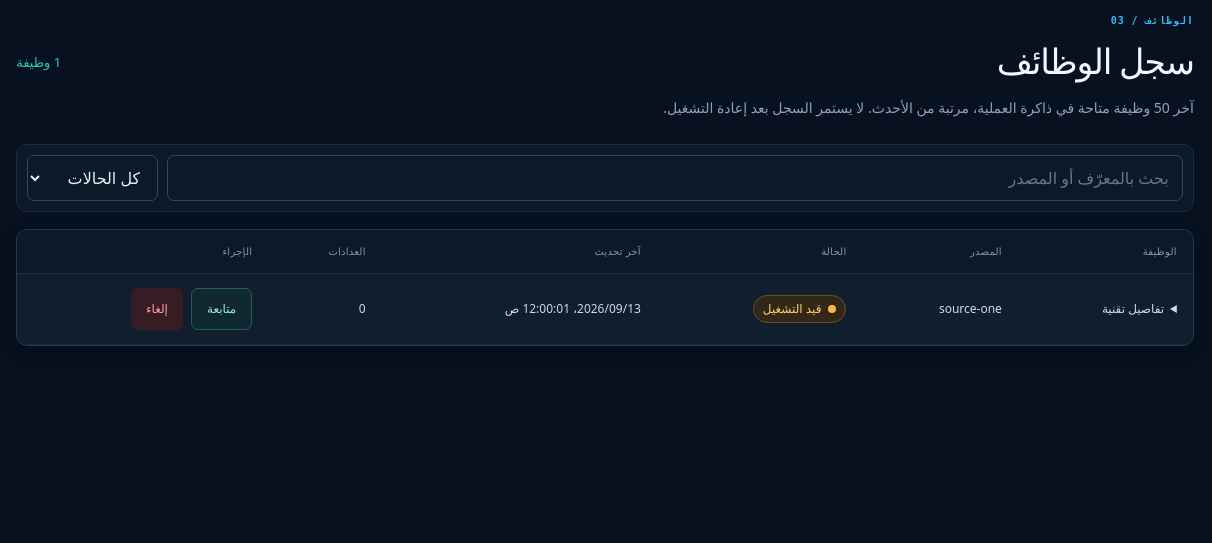
it: external job history monitoring › prevents duplicate cancellation and rejects late identity replacement
Click the button "إلغاء". click: (157, 309)
box: [131,288,183,330]
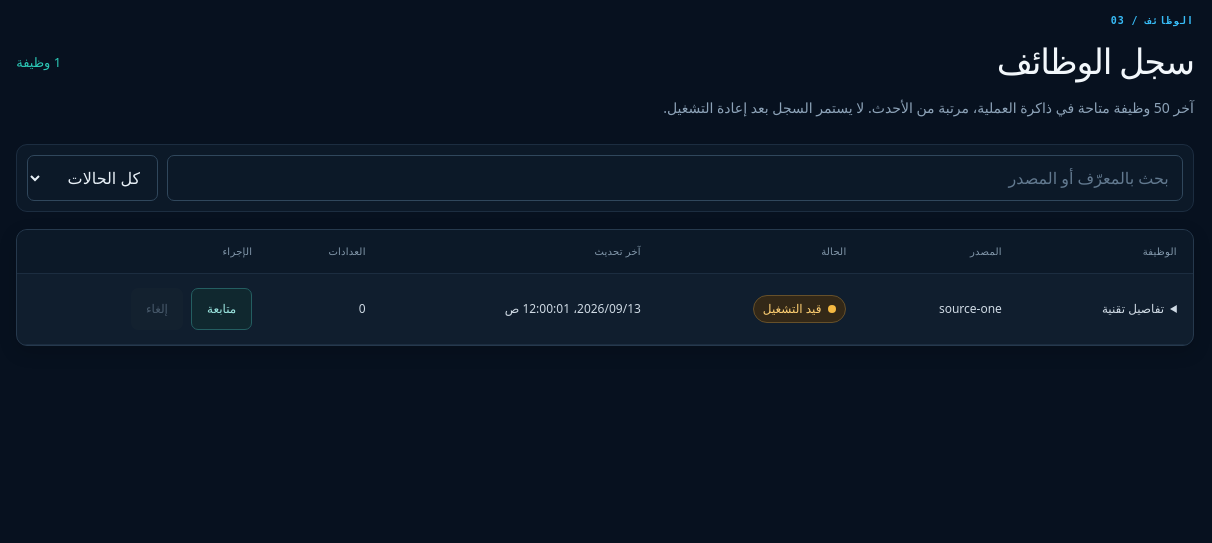
Expected: the button "إلغاء" is disabled
Click the button "إلغاء". click: (157, 309)
box: [131,288,183,330]
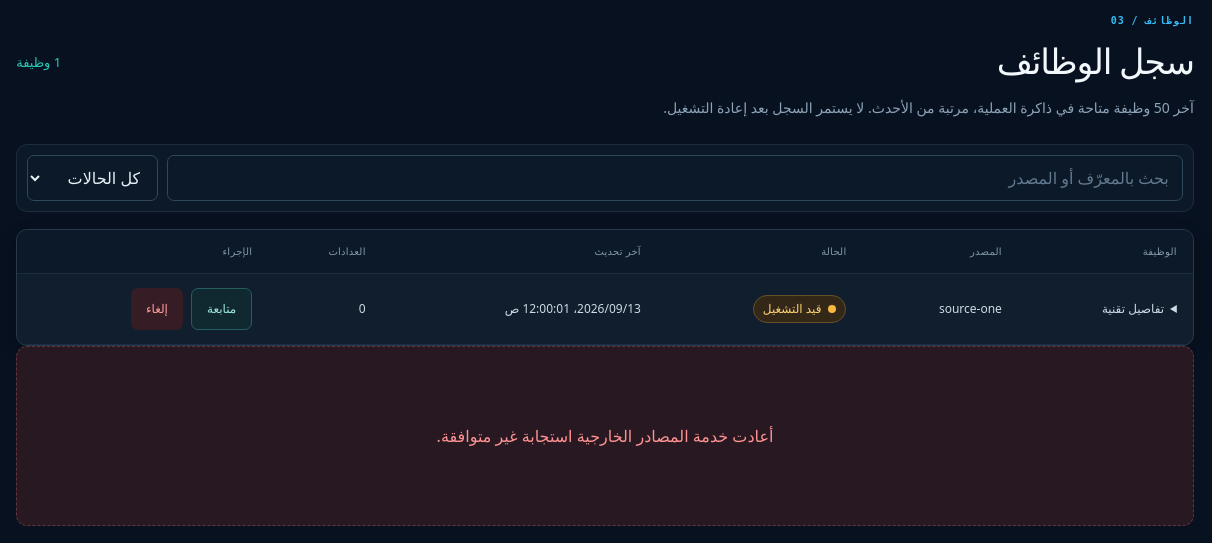
Expected: the message "أعادت خدمة المصادر الخارجية استجابة غير متوافقة." is shown, [16,346,1194,526]
